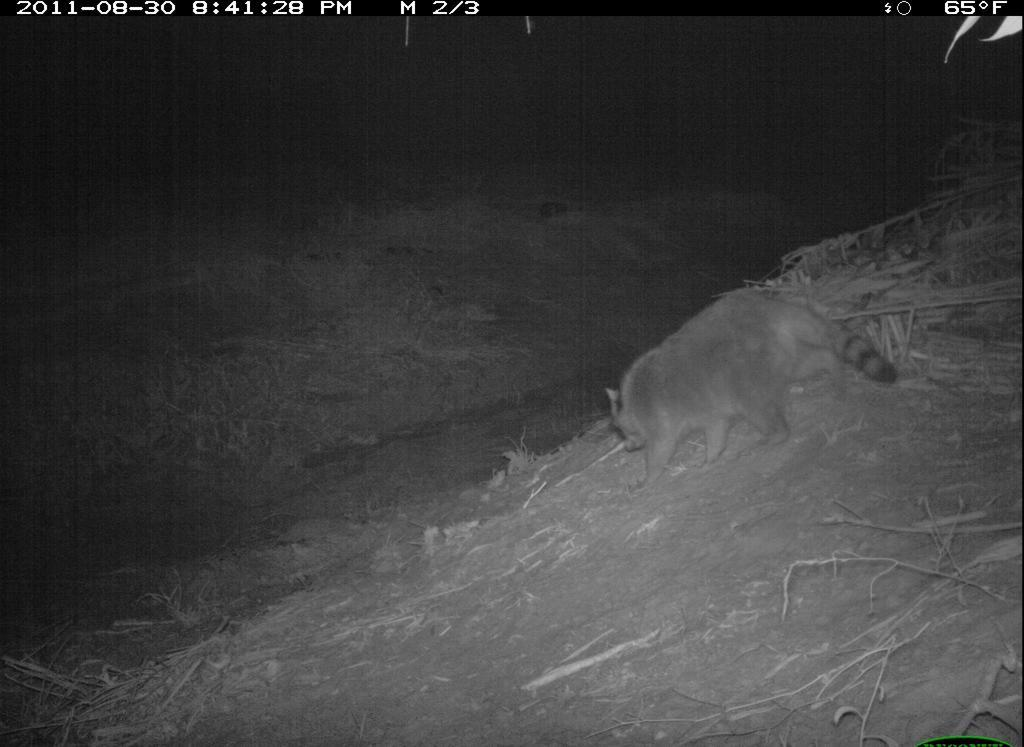raccoon: (568, 278, 913, 491)
